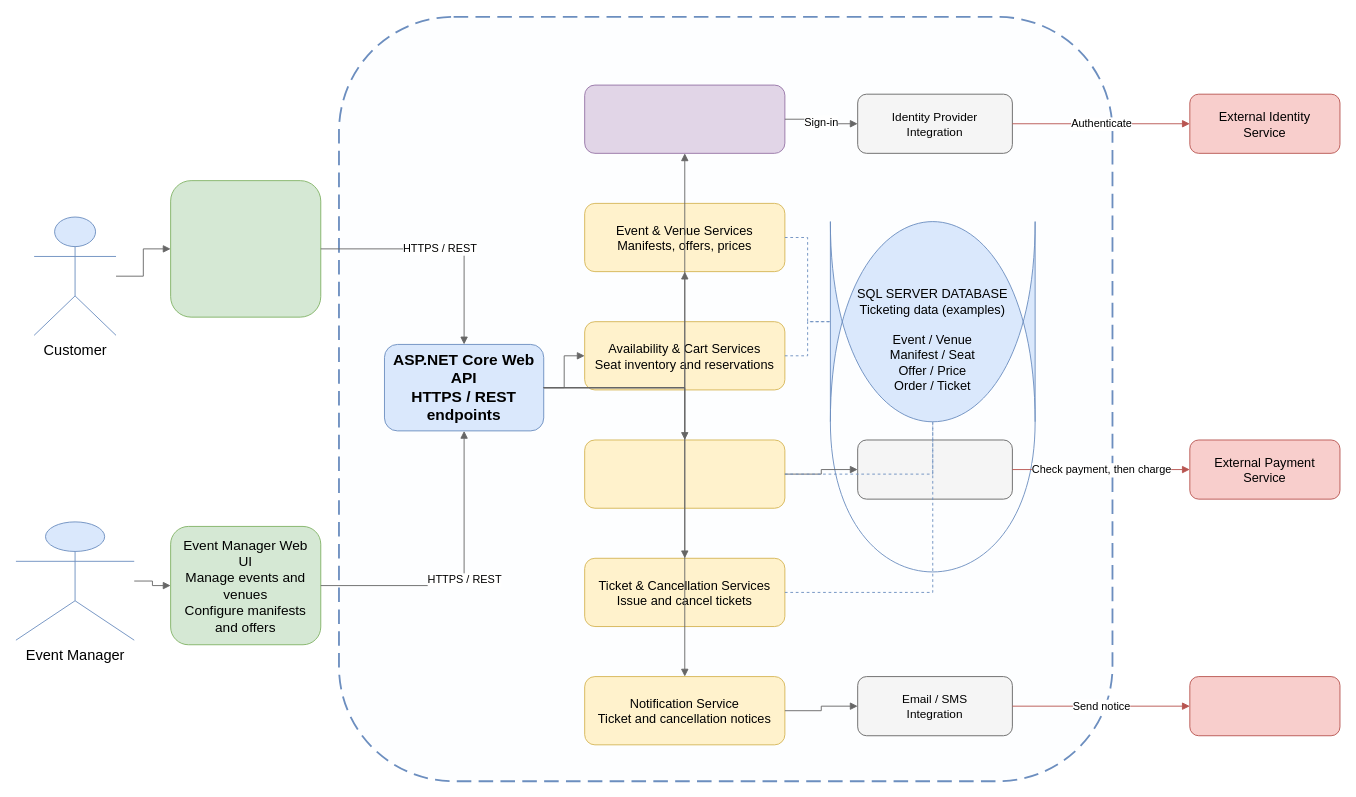
Some shapes in this 1356 by 797 pixel diagram are drawn without their labels. Here are the shapes that lost their labels. From the top down, the box of each, then its label:
(584, 84, 785, 153): Authentication & Authorization Identity and role policies
(170, 180, 321, 317): Customer Web UI Search events Check availability Manage cart and purchase
(338, 15, 1113, 782): Event Ticketing System
(584, 439, 785, 508): Purchase & Payment Services Order and payment workflow
(857, 439, 1012, 499): Payment Provider Integration
(1189, 676, 1340, 736): Email / SMS Provider
